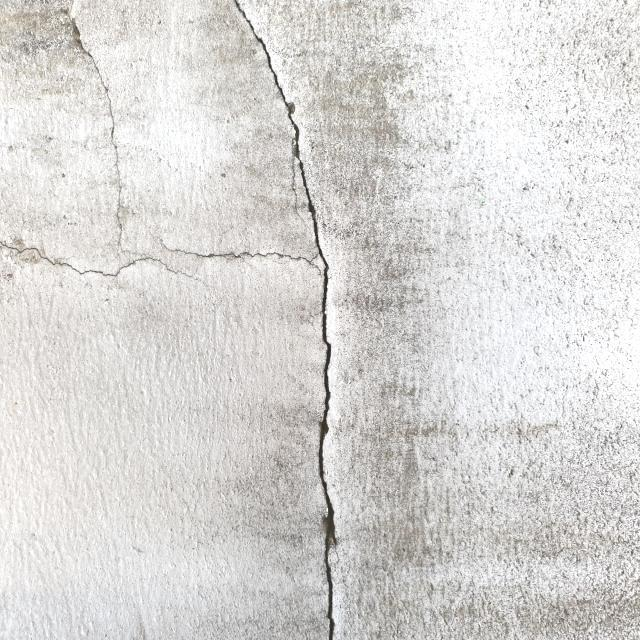SurfaceCrack: (218, 2, 390, 639)
